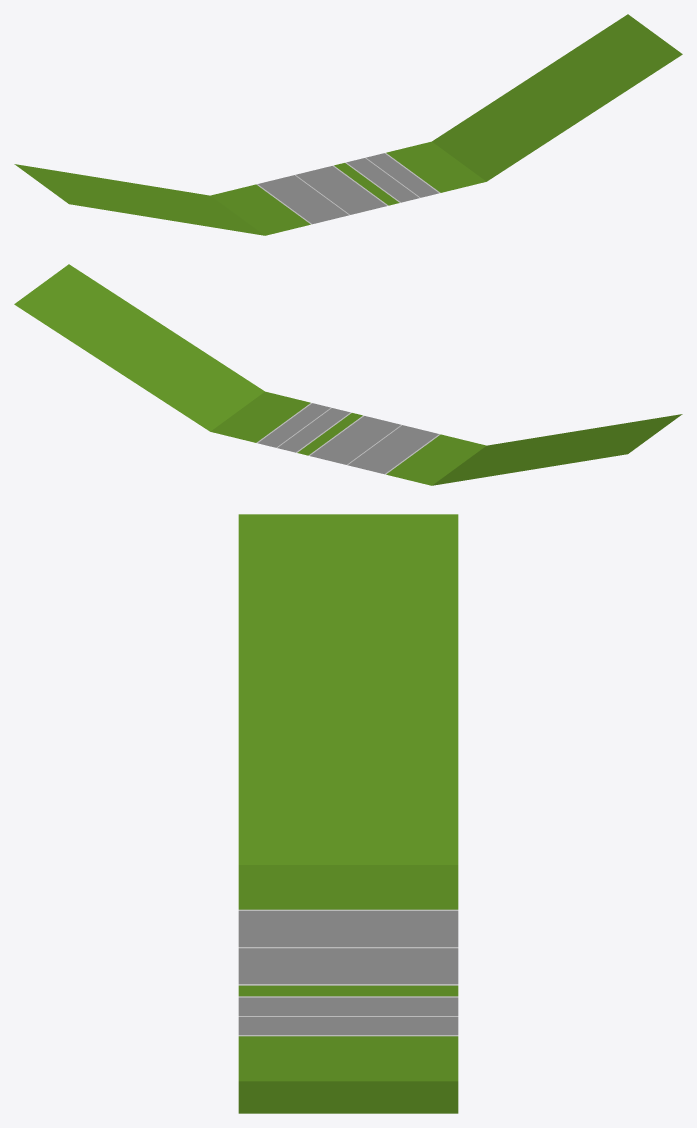
Rendered from Road.fbx.
The picture shows the model from 3 angles, top to bottom: view 1: azimuth 30°, elevation 25°; view 2: azimuth 150°, elevation 25°; view 3: azimuth 270°, elevation 25°; orthographic projection. The views are drawn at different scales.
Visible parts, largest first — view 1: Road; view 2: Road; view 3: Road.
Part boxes in pixels (bbox=[...]): Road: bbox=[14, 14, 682, 235]; Road: bbox=[14, 264, 682, 485]; Road: bbox=[238, 514, 458, 1113].
Size of the model in its own units: 19343 by 2394 by 3000.
1 material, 1 textured.
